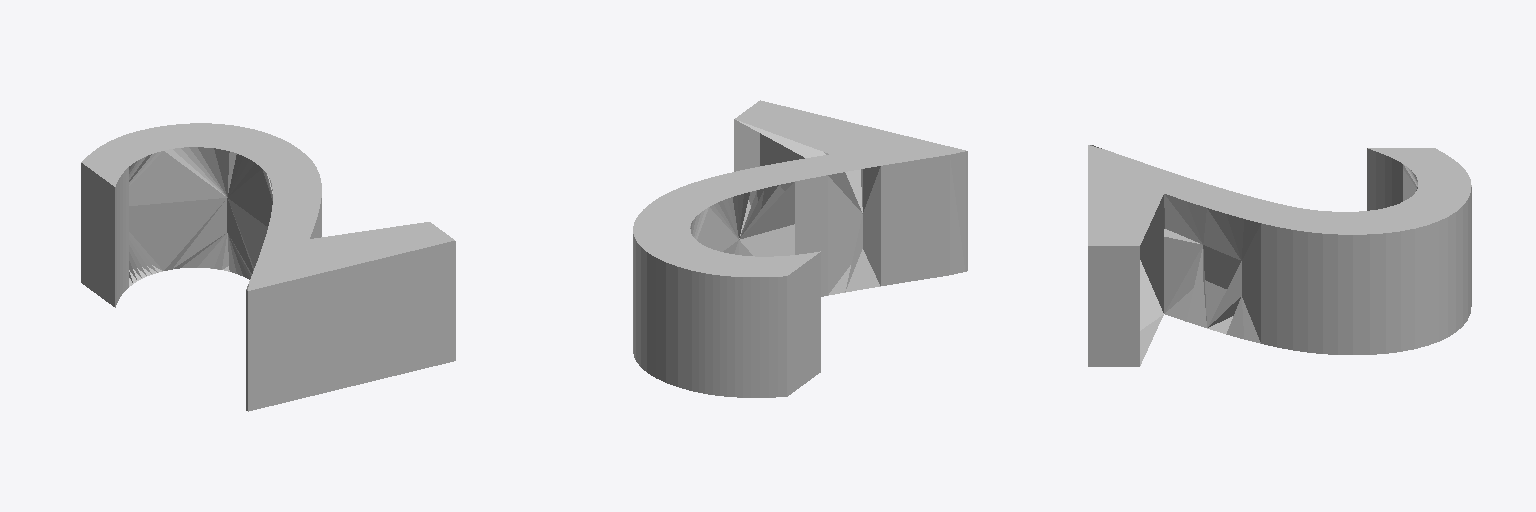
3 renders of one model, left to right at view 1: azimuth 30°, elevation 25°; view 2: azimuth 150°, elevation 25°; view 3: azimuth 270°, elevation 25°, orthographic.
Visible parts, largest first — view 1: Tets; view 2: Tets; view 3: Tets.
Boxes of the visible parts, x1=… form: Tets: x1=81, y1=123, x2=455, y2=411; Tets: x1=633, y1=100, x2=967, y2=397; Tets: x1=1088, y1=145, x2=1471, y2=366.
Bounding box in the file's own units: 0.432 × 0.24 × 0.691.